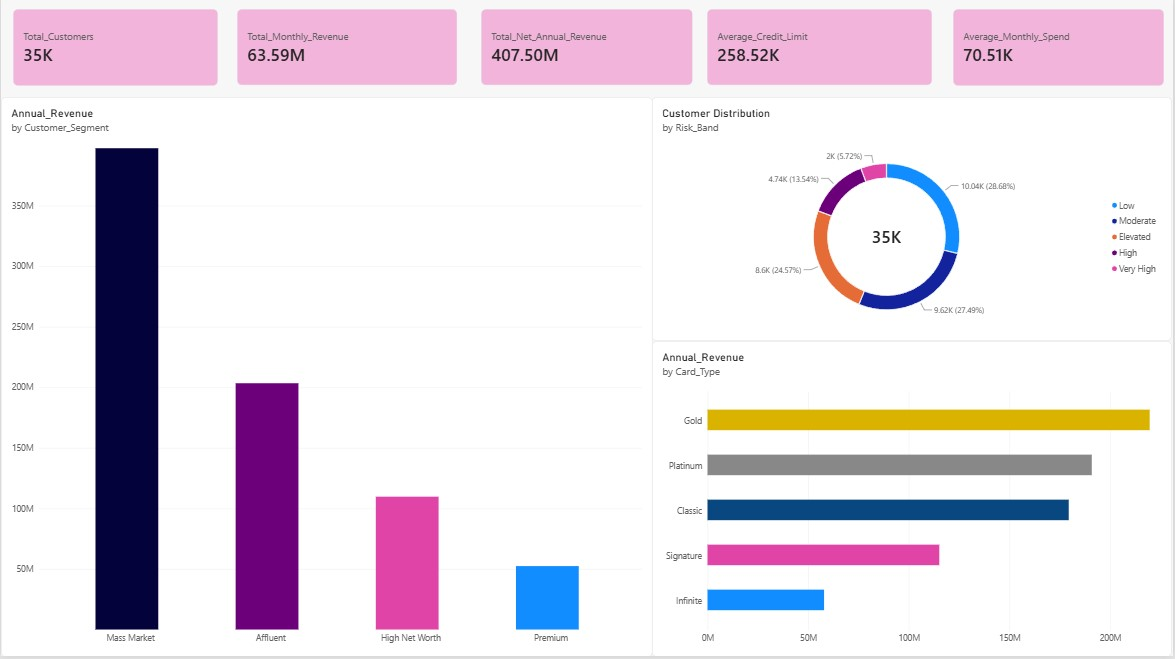

The dashboard page shown, as its layout file describes it:
{"tool":"powerbi","page":{"name":"Page 1","canvas":[1920,1080],"ordinal":0},"visuals":[{"type":"cardVisual","fields":{"Data":["CountNonNull(Sheet1.Customer_ID)"]},"box":[20,18,336,126],"z":0},{"type":"cardVisual","fields":{"Data":["Sum(Sheet1.Monthly_Revenue)"]},"box":[387.4,18,361.1,125],"z":1000},{"type":"cardVisual","fields":{"Data":["Sum(Sheet1.Net_Annual_Revenue)"]},"box":[787.4,18,347.2,125],"z":2000},{"type":"cardVisual","fields":{"Data":["Avg(Sheet1.Credit_Limit)"]},"box":[1156.8,18,369.4,125],"z":3000},{"type":"cardVisual","fields":{"Data":["Avg(Sheet1.Monthly_Spend)"]},"box":[1560,18,346,126],"z":4000},{"type":"columnChart","fields":{"Category":["Sheet1.Customer_Segment"],"Y":["Sum(Sheet1.Annual_Revenue)"]},"box":[0,162,1068,918],"z":5000},{"type":"clusteredBarChart","fields":{"Category":["Sheet1.Card_Type"],"Y":["Sum(Sheet1.Annual_Revenue)"]},"box":[1068,562,852,518],"z":6000},{"type":"donutChart","fields":{"Category":["Sheet1.Risk_Band"],"Y":["CountNonNull(Sheet1.Customer_ID)"]},"box":[1068,162,852,400],"z":7000}]}

Visuals, with their boxes in screenshot pixels (x1, y1, x2, y2), scaled from the page's 1920x1080 canvas onto the 1175x659 screenshot:
cardVisual - CountNonNull(Sheet1.Customer_ID): (left=12, top=11, right=218, bottom=88)
cardVisual - Sum(Sheet1.Monthly_Revenue): (left=237, top=11, right=458, bottom=87)
cardVisual - Sum(Sheet1.Net_Annual_Revenue): (left=482, top=11, right=694, bottom=87)
cardVisual - Avg(Sheet1.Credit_Limit): (left=708, top=11, right=934, bottom=87)
cardVisual - Avg(Sheet1.Monthly_Spend): (left=955, top=11, right=1166, bottom=88)
columnChart - Sheet1.Customer_Segment x Sum(Sheet1.Annual_Revenue): (left=0, top=99, right=654, bottom=658)
clusteredBarChart - Sheet1.Card_Type x Sum(Sheet1.Annual_Revenue): (left=654, top=343, right=1174, bottom=658)
donutChart - Sheet1.Risk_Band x CountNonNull(Sheet1.Customer_ID): (left=654, top=99, right=1174, bottom=343)
